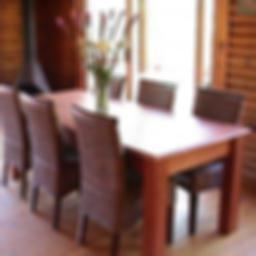Puerta: (83, 3, 128, 100)
